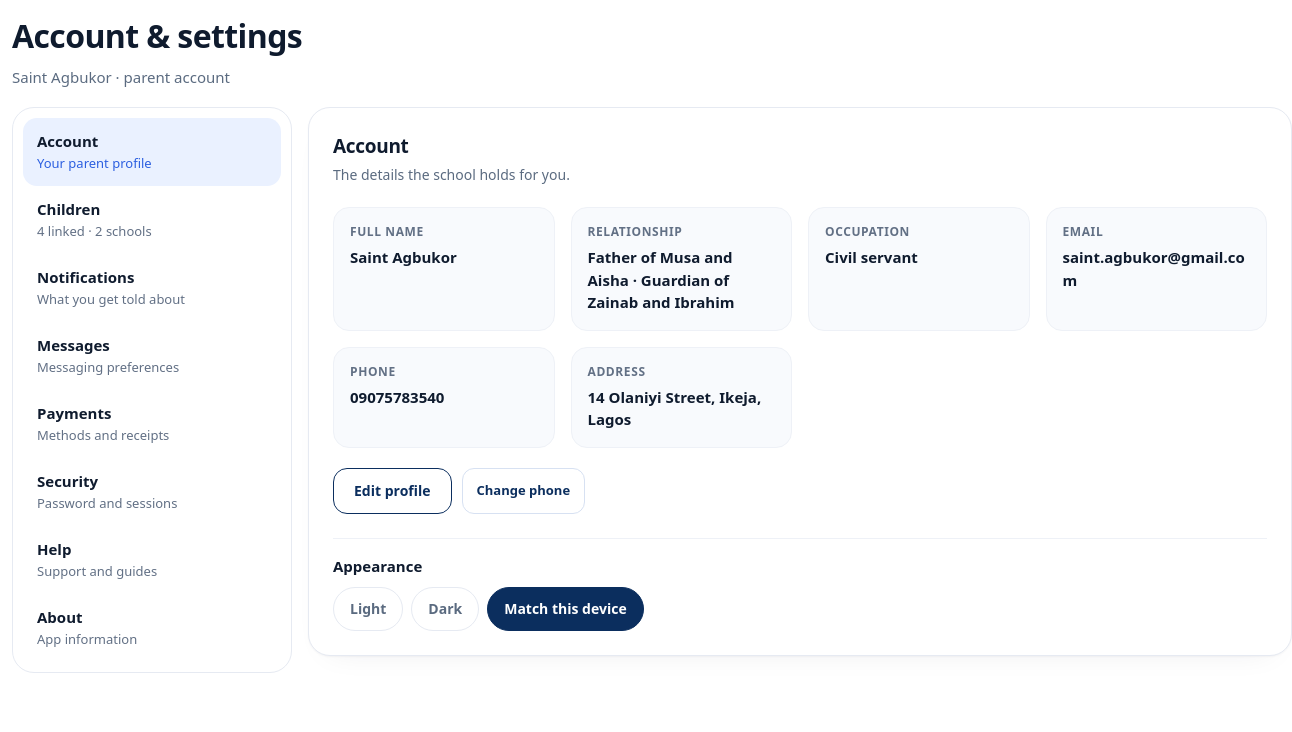
Test: Settings (fixtures) › Account: shows the profile with relationships, email read-only, and saves name, occupation and address
Expected: the text "Civil servant" is shown, x1=825 y1=247 x2=918 y2=267
Expected: the text "Father of Musa and Aisha · Guardian of Zainab and Ibrahim" is shown, x1=588 y1=247 x2=734 y2=312
Click the button "Edit profile" at (392, 490), box x1=333 y1=468 x2=452 y2=514
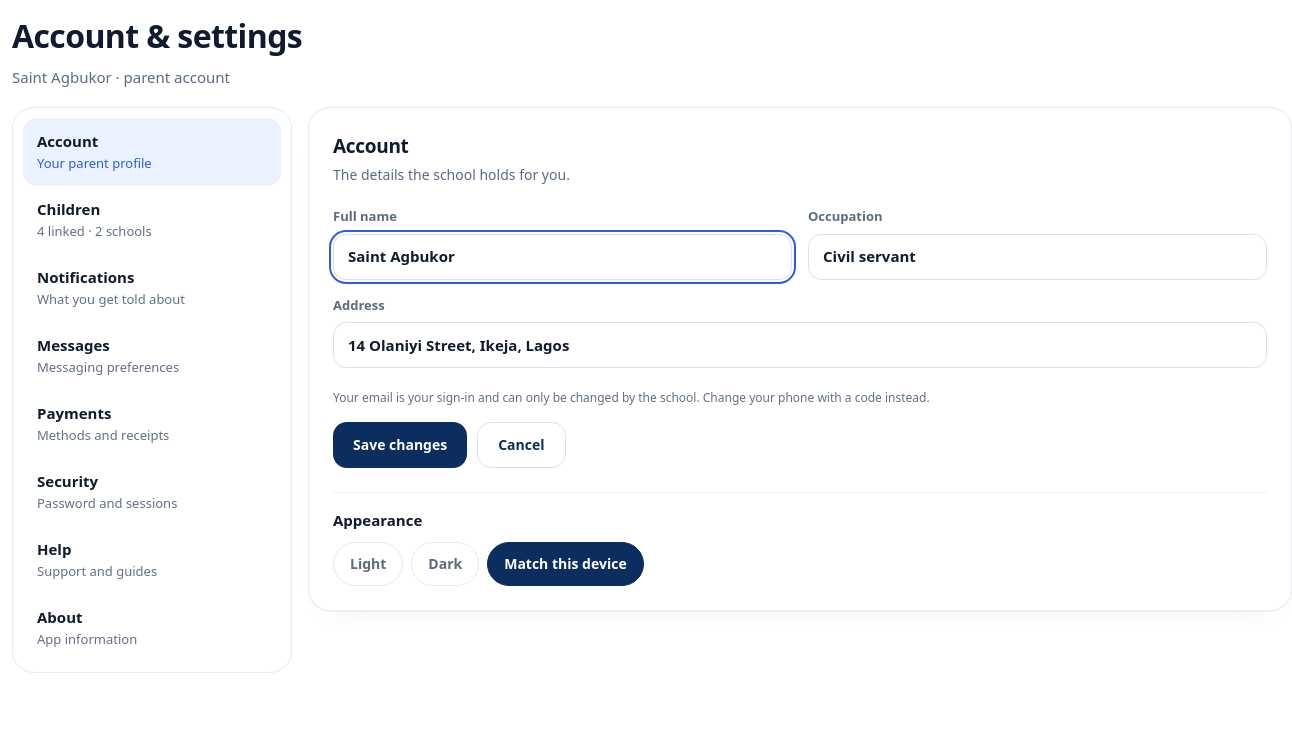
Replace the text in the field labelled "Occupation" with "Engineer" at (1038, 256), box x1=808 y1=234 x2=1267 y2=280
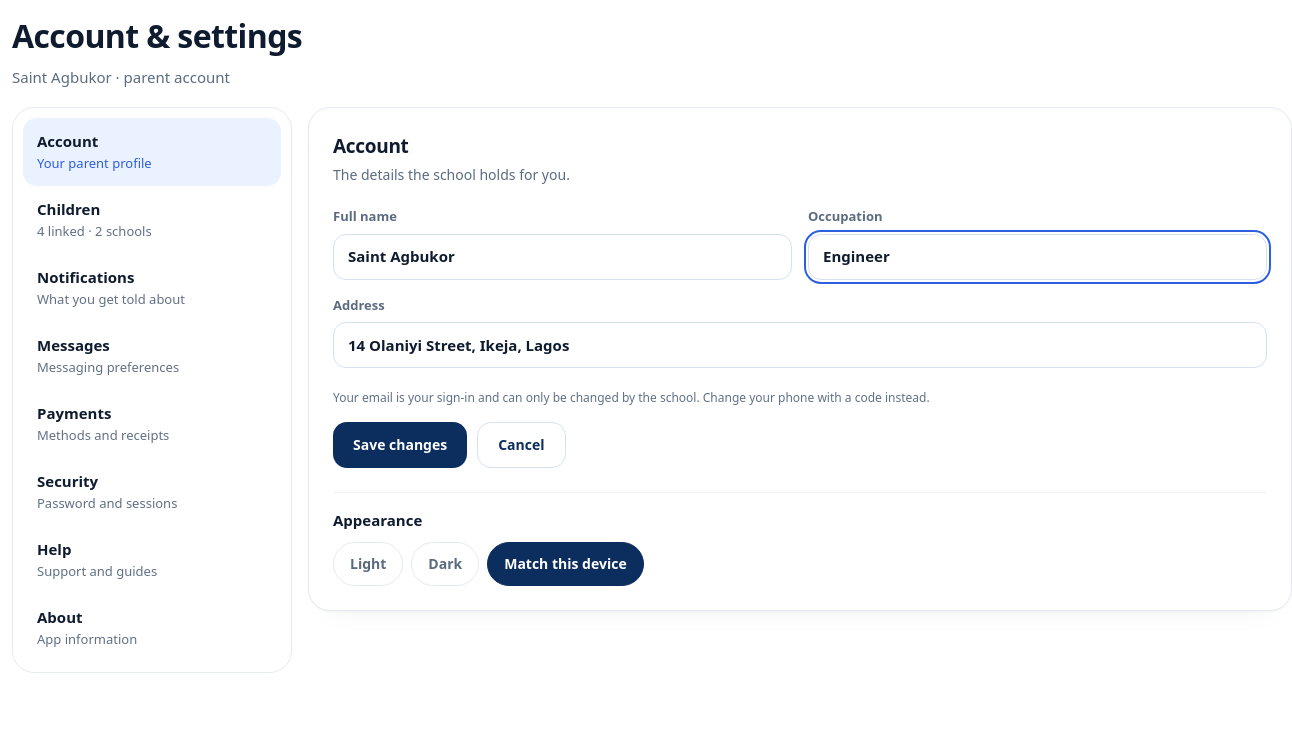
Click the button "Save changes" at (400, 445), box x1=333 y1=422 x2=467 y2=468
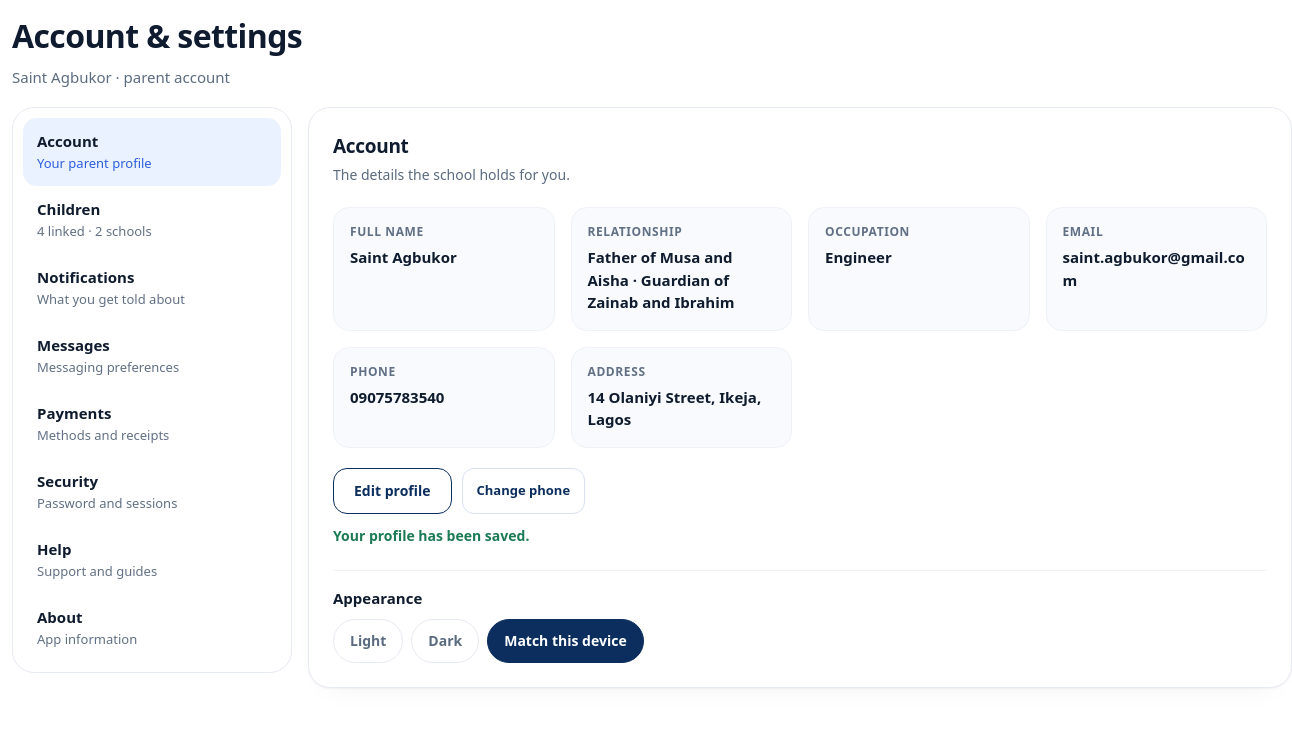
Result: the text "Your profile has been saved." is shown at x1=333 y1=526 x2=529 y2=544
